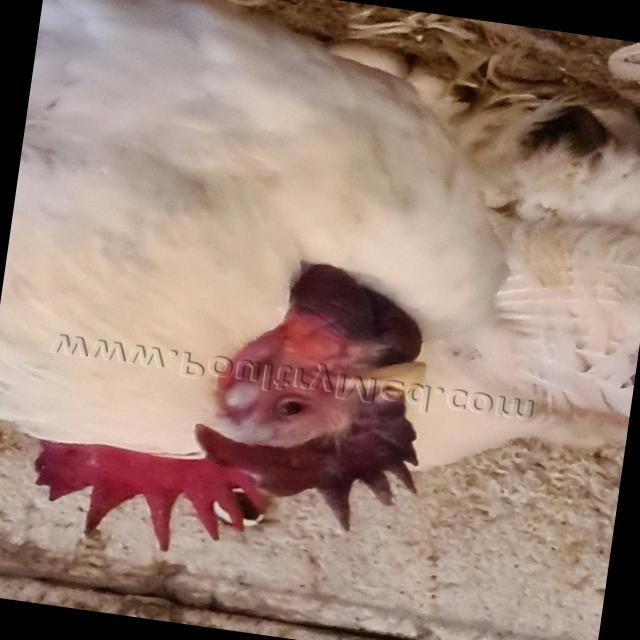Infectios bronchitis: (188, 259, 462, 528)
